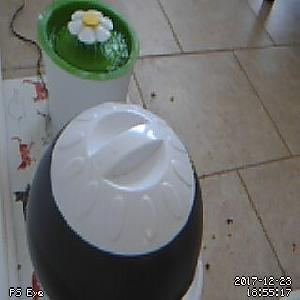fountain: (35, 1, 139, 81)
